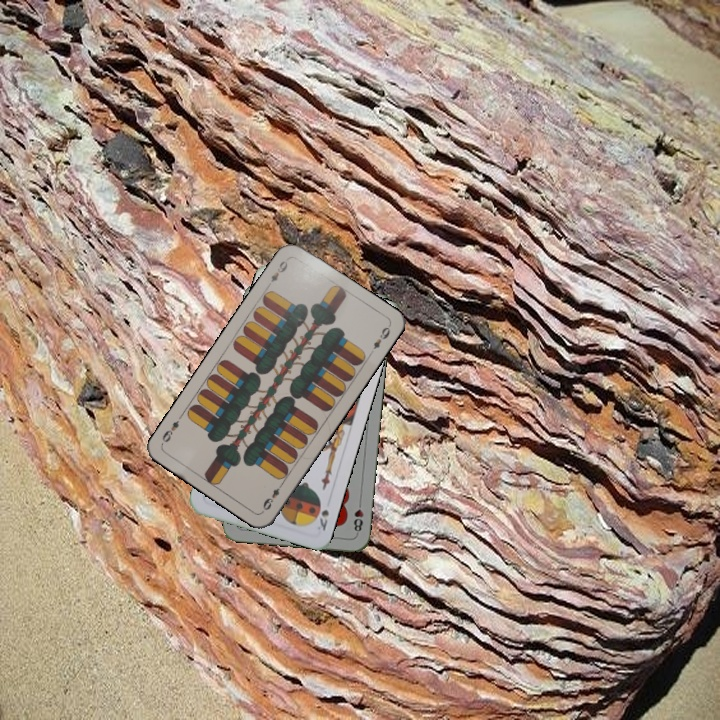E9: (259, 478, 286, 513), (267, 254, 291, 285)
H8: (350, 496, 366, 537)
SK: (311, 496, 332, 533)
